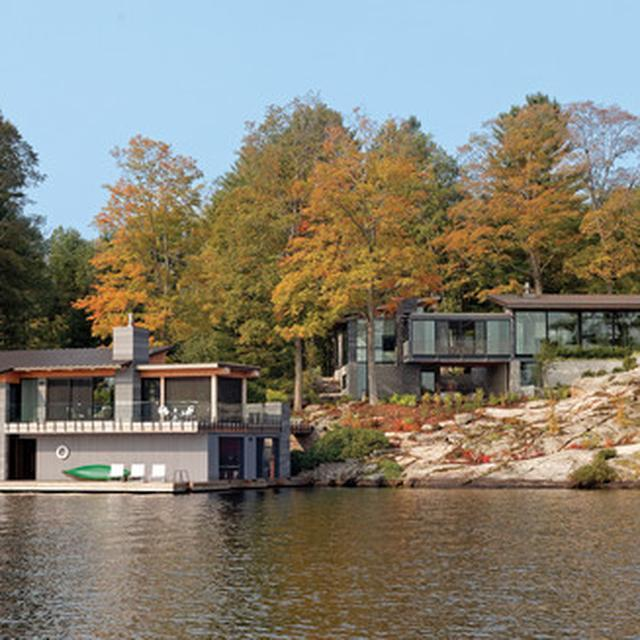building: (0, 303, 303, 510), (330, 253, 640, 413)
